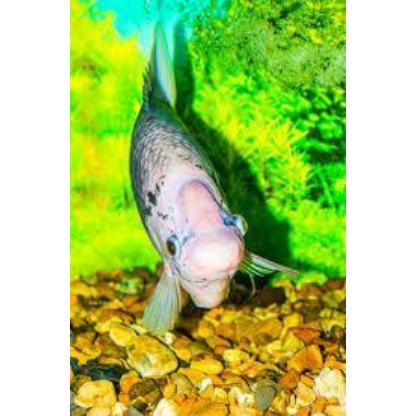gurame: (108, 64, 290, 335)
